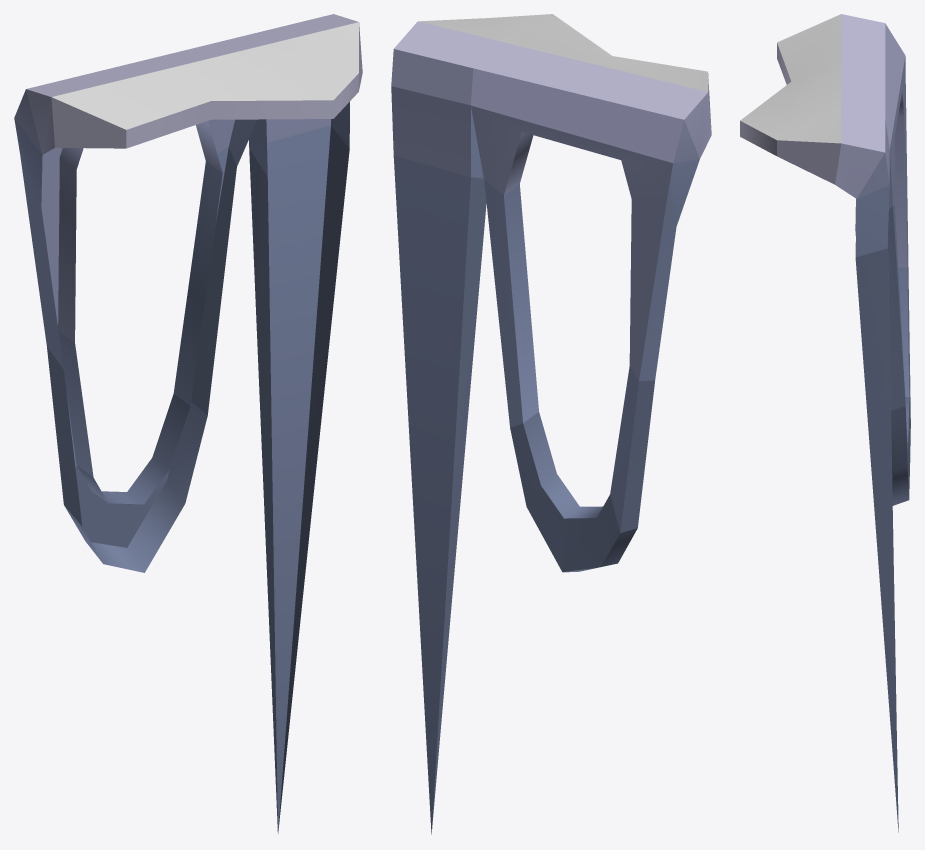
File: Prop_Spiderweb_05.fbx
The picture shows the model from 3 angles, left to right: view 1: azimuth 30°, elevation 25°; view 2: azimuth 150°, elevation 25°; view 3: azimuth 270°, elevation 25°; orthographic projection. The views are drawn at different scales.
Parts seen in each view (by area): view 1: spiderweb05; view 2: spiderweb05; view 3: spiderweb05.
Boxes of the visible parts, left/top/right/bottom form: spiderweb05: left=14, top=14, right=362, bottom=833; spiderweb05: left=391, top=14, right=711, bottom=834; spiderweb05: left=740, top=14, right=910, bottom=832.
Size of the model in its own units: 91.43 by 235 by 50.99.
